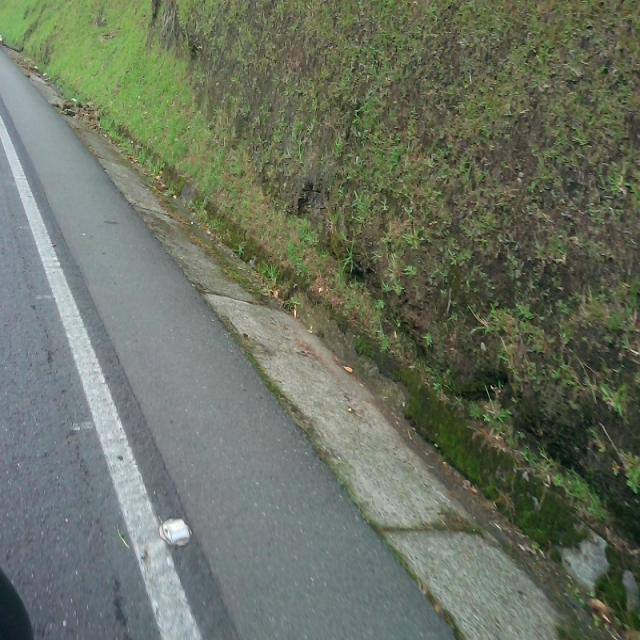DITCH: (3, 38, 634, 638), (1, 44, 638, 638)
